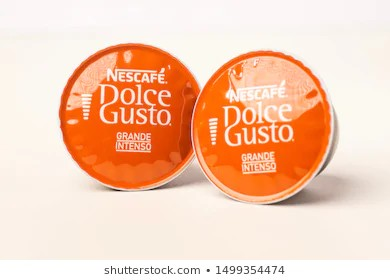nescafe-dolce: (192, 48, 340, 208), (58, 43, 201, 192)
